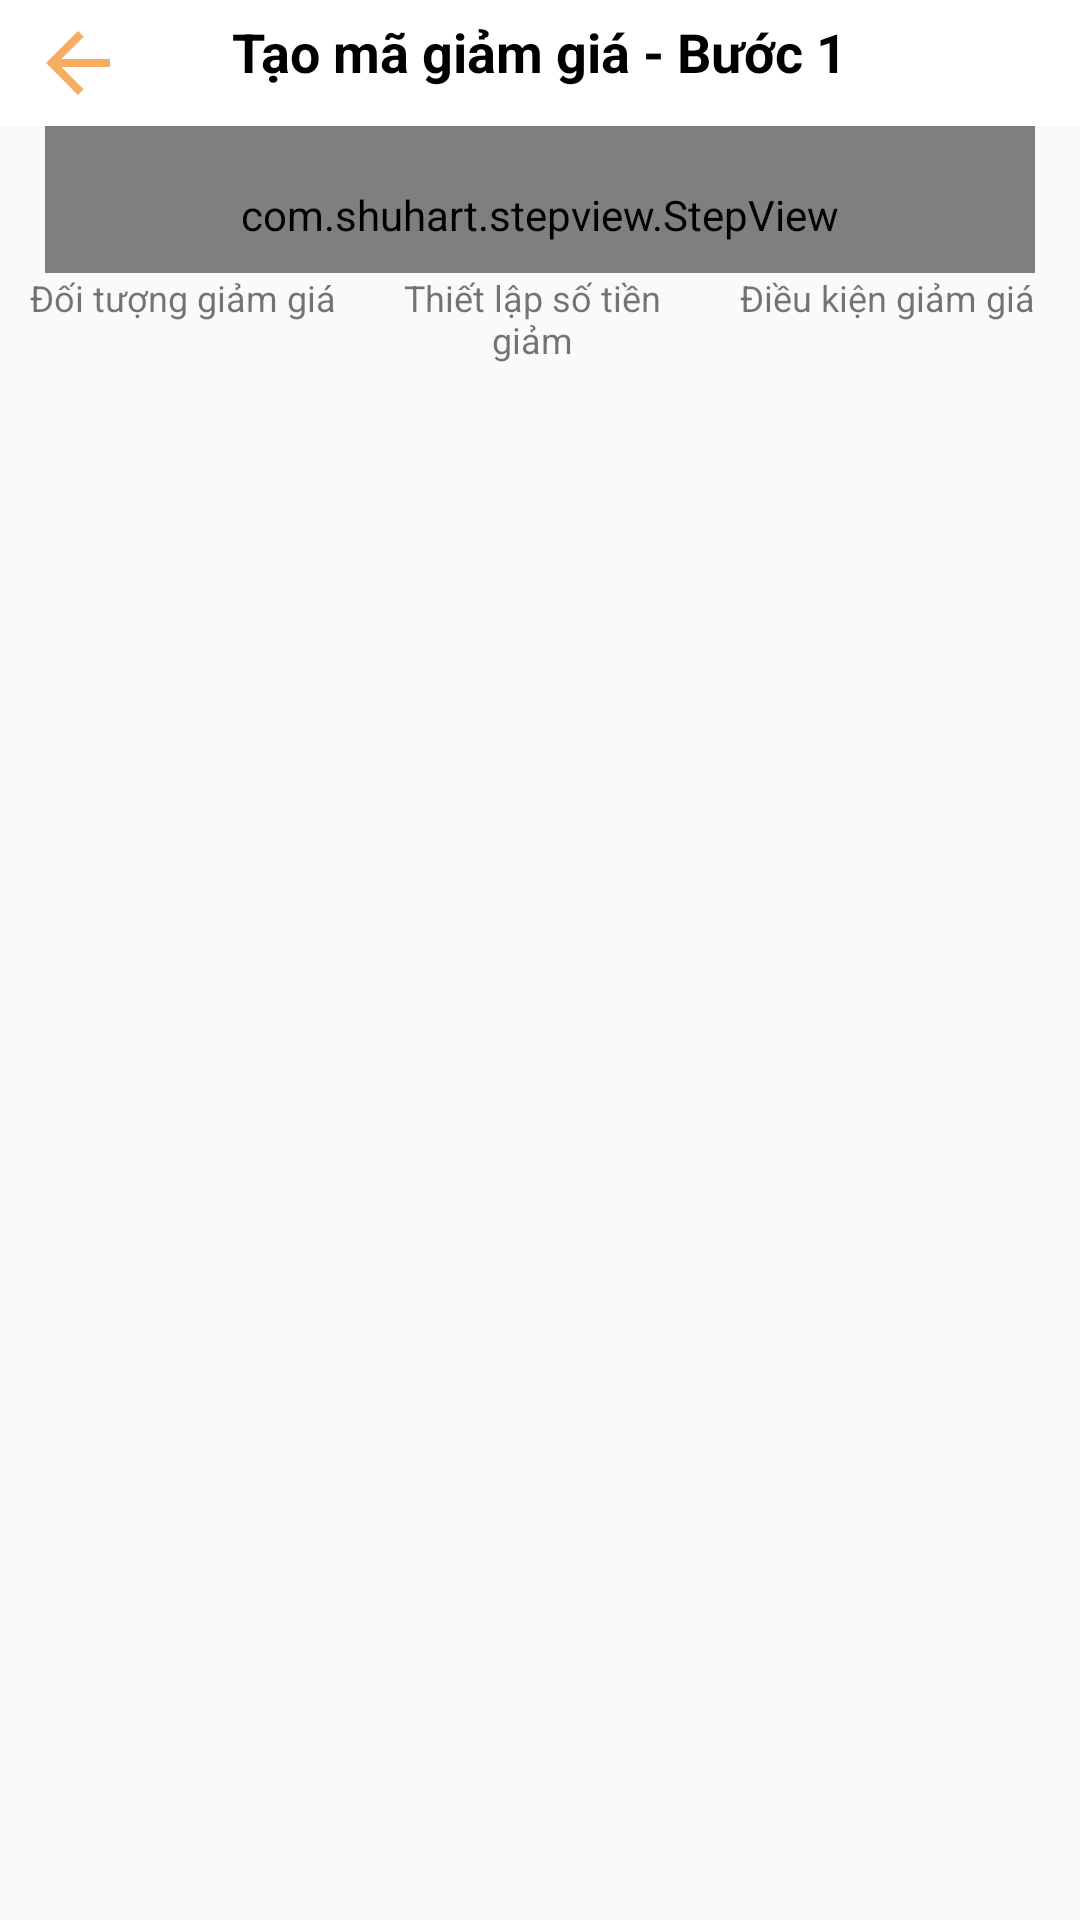

Where to tap for icons on this 1080x1920 app screen, as [x,y]:
arrow back: [78,63]
